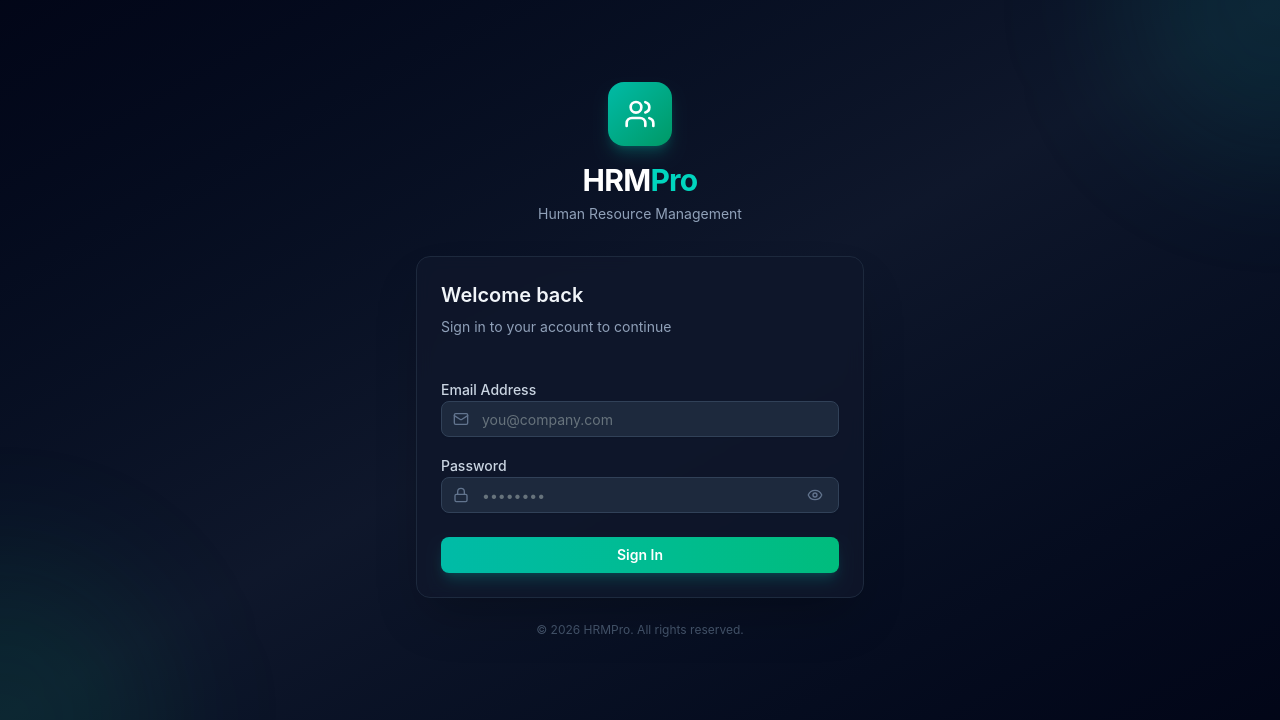
Test: Login Component › should show validation error for short password
Type "123" into the button named "password" at coordinates (815, 495), box [801,481,829,509]
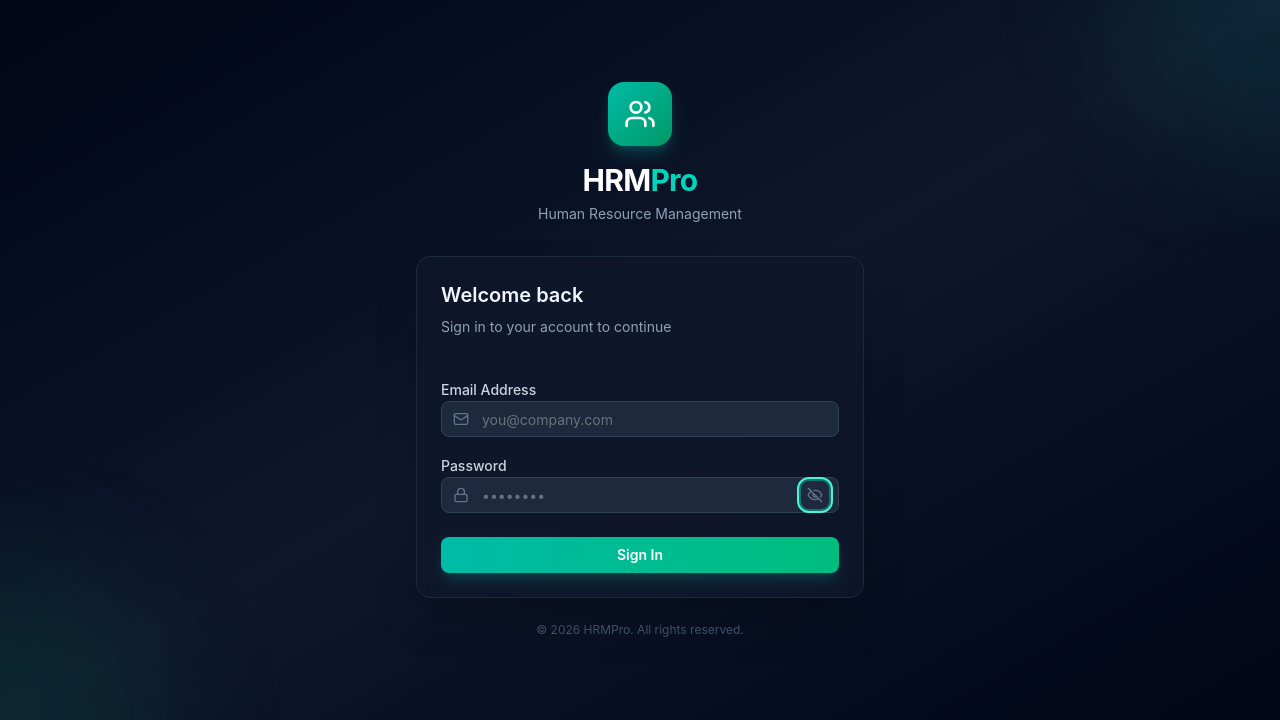
Click the button "Sign In" at coordinates (640, 555), box [441,537,839,573]
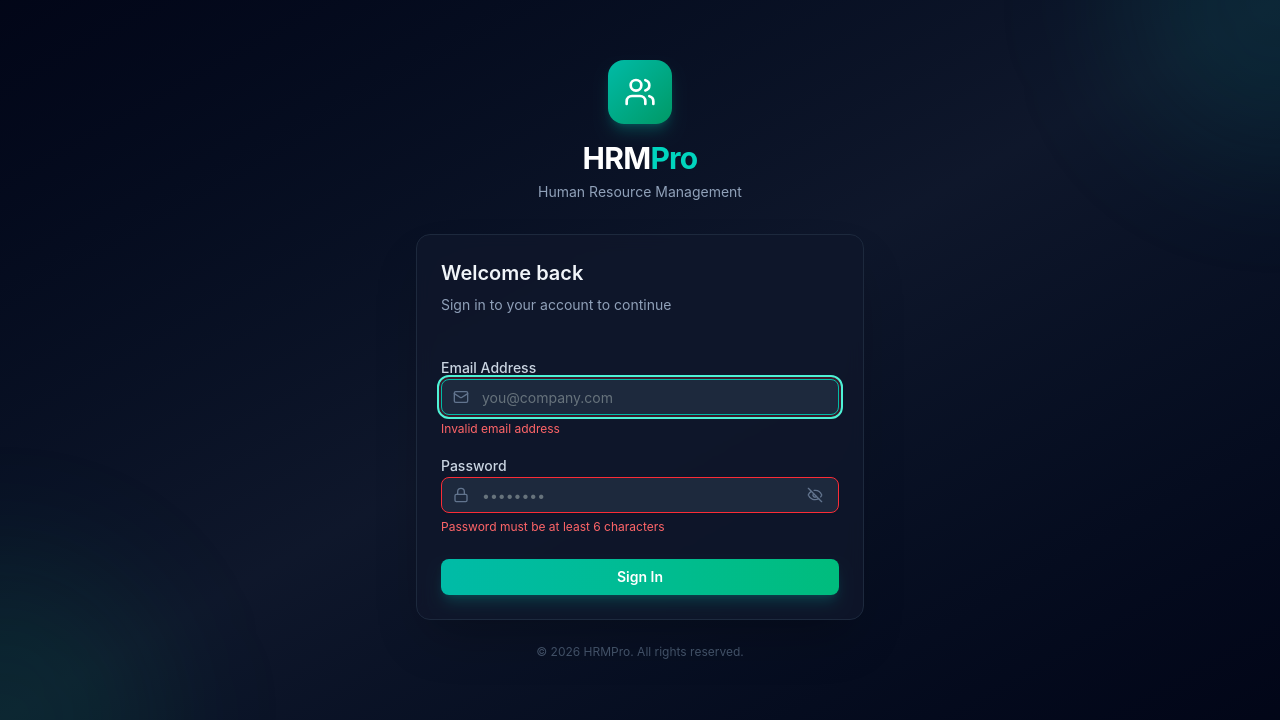
Now the text "Password must be at least 6 characters" is shown, box [441,519,665,534]
